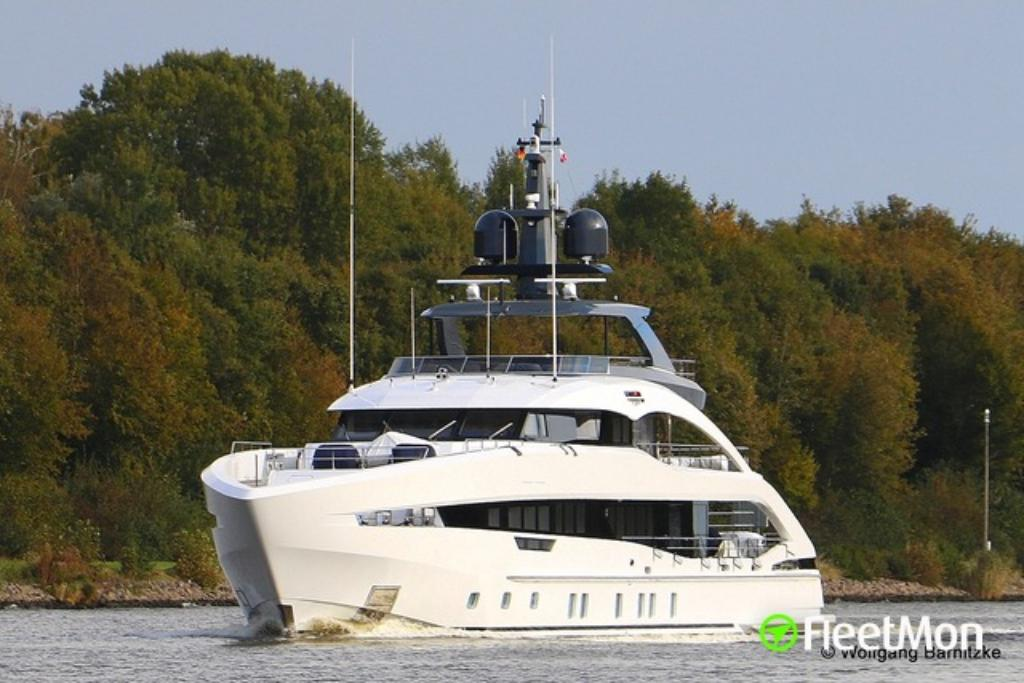PassengerShip: (200, 98, 828, 642)
